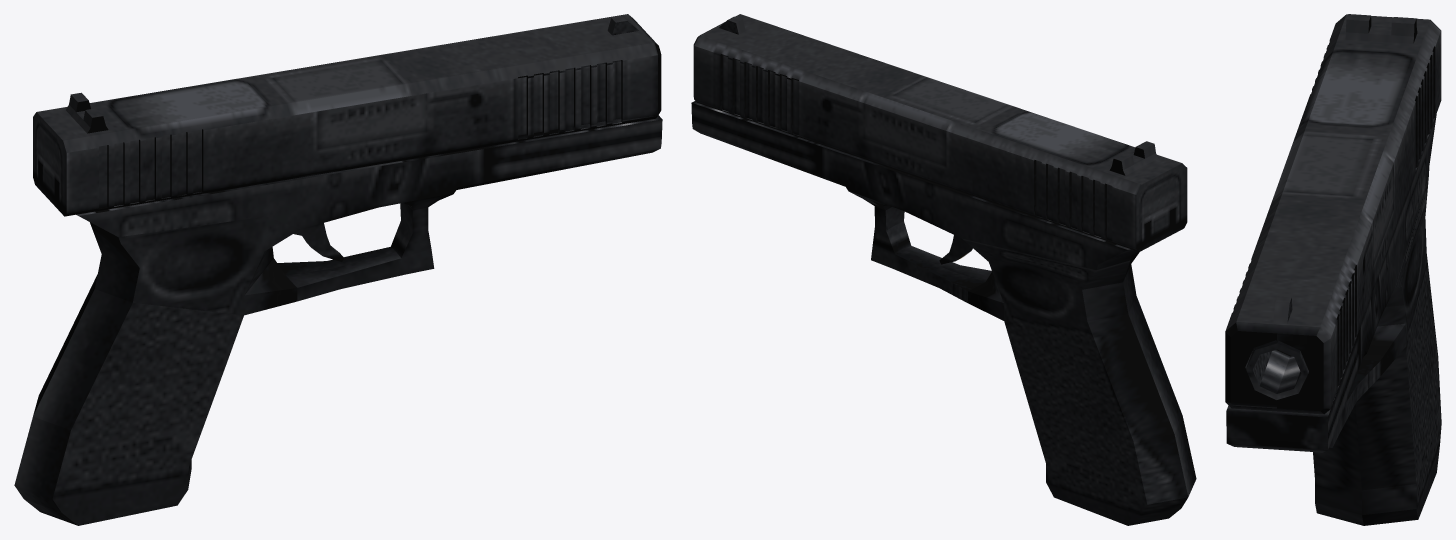
The model's file is glockparagus.fbx.
3 views of the same model, side by side, from view 1: azimuth 30°, elevation 25°; view 2: azimuth 150°, elevation 25°; view 3: azimuth 270°, elevation 25° (orthographic). The views are drawn at different scales.
Visible parts, largest first — view 1: arma; view 2: arma; view 3: arma.
Part boxes in pixels (left/top/right/bottom): arma: left=14, top=14, right=662, bottom=525; arma: left=691, top=14, right=1196, bottom=525; arma: left=1225, top=14, right=1441, bottom=525.
Bounding box in the file's own units: 495 × 320 × 135.
1 material, 1 textured.
